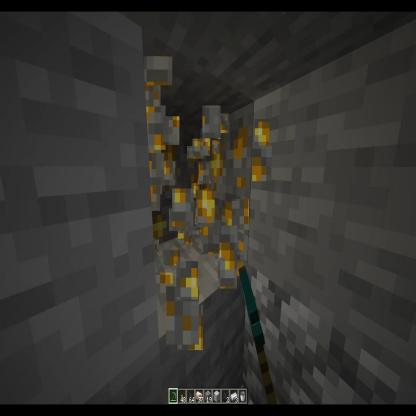gold ore: (144, 113, 198, 247)
